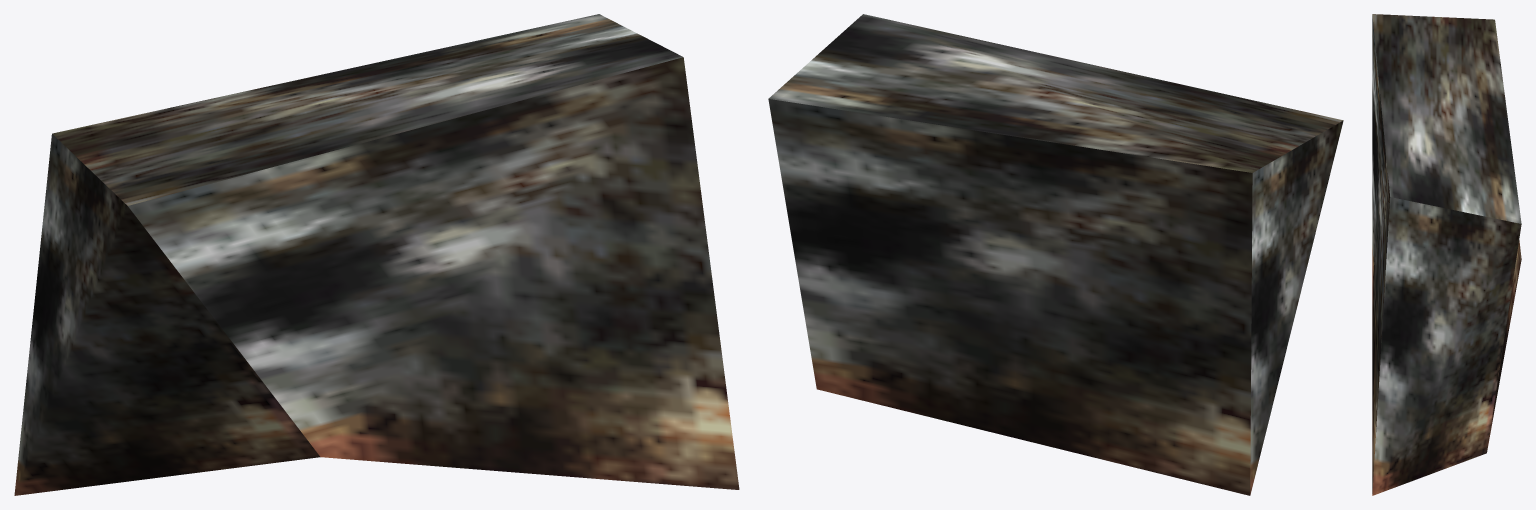
The model's file is USA - Base Infrastructure - Power Plant - Damage State 26 - ABPWRPLANT_d26.glb.
The picture shows the model from 3 angles, left to right: view 1: azimuth 30°, elevation 25°; view 2: azimuth 150°, elevation 25°; view 3: azimuth 270°, elevation 25°; orthographic projection. The views are drawn at different scales.
Visible parts, largest first — view 1: ABPWRPLANT_D26; view 2: ABPWRPLANT_D26; view 3: ABPWRPLANT_D26.
Part boxes in pixels (bbox=[...]): ABPWRPLANT_D26: bbox=[14, 14, 739, 495]; ABPWRPLANT_D26: bbox=[768, 14, 1343, 495]; ABPWRPLANT_D26: bbox=[1372, 14, 1521, 495].
Bounding box in the file's own units: 6.9 × 4.67 × 2.21.
1 material, 1 textured.
